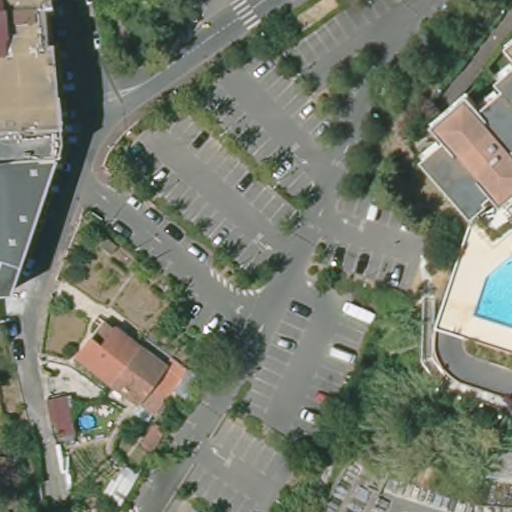pool: (468, 248, 512, 325), (76, 415, 98, 431)
